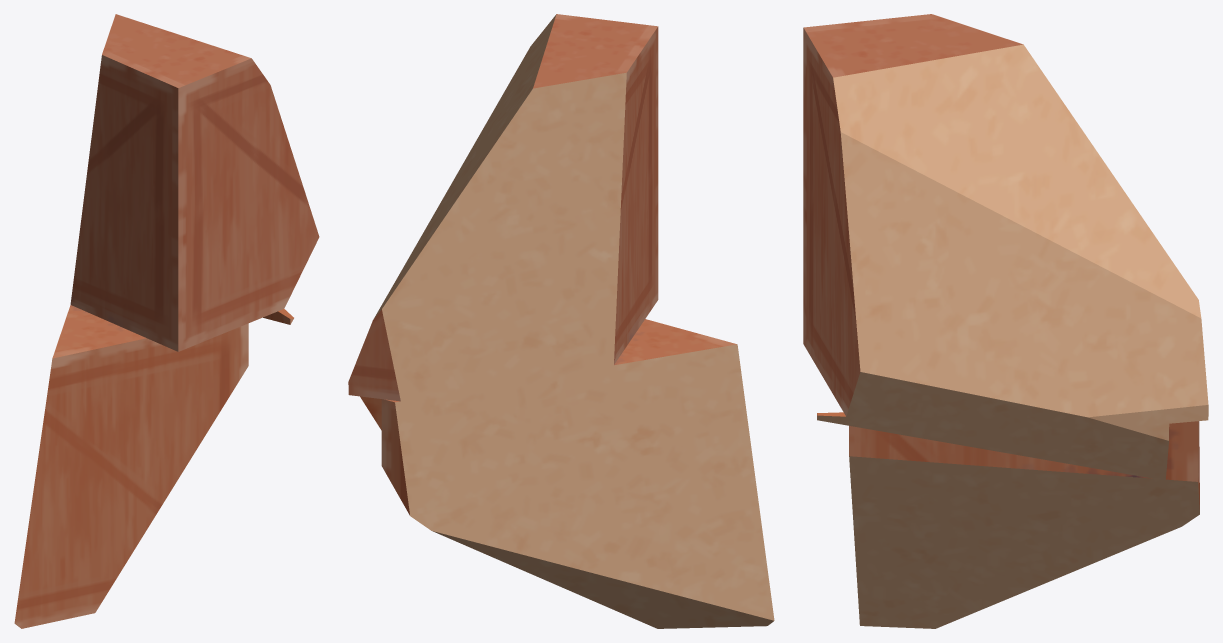
The model's file is stack_crates_s02.fbx.
3 views of the same model, side by side, from view 1: azimuth 30°, elevation 25°; view 2: azimuth 150°, elevation 25°; view 3: azimuth 270°, elevation 25° (orthographic). The views are drawn at different scales.
Visible parts, largest first — view 1: stack_crates_s02; view 2: stack_crates_s02; view 3: stack_crates_s02.
Boxes of the visible parts, <box> form: stack_crates_s02: <box>14,14,319,628</box>; stack_crates_s02: <box>348,14,774,628</box>; stack_crates_s02: <box>803,14,1208,628</box>.
Bounding box in the file's own units: 3.6 × 6 × 3.48.
